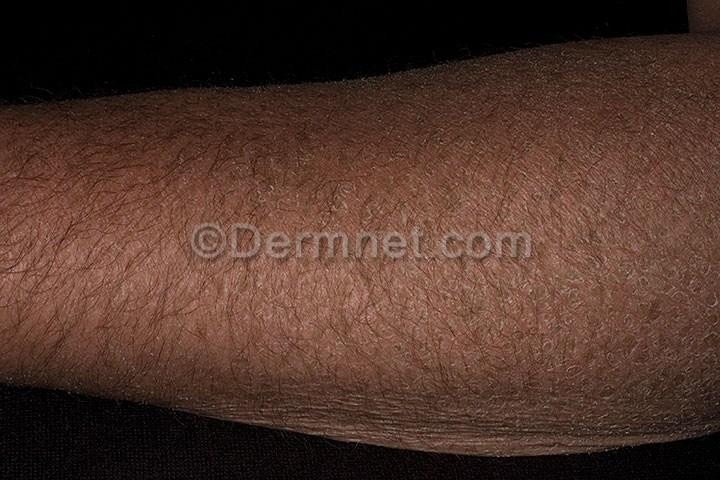eritema 1: (4, 36, 719, 458)
liquenificacion 1: (5, 40, 719, 458)
xerosis 2: (0, 33, 719, 462)
